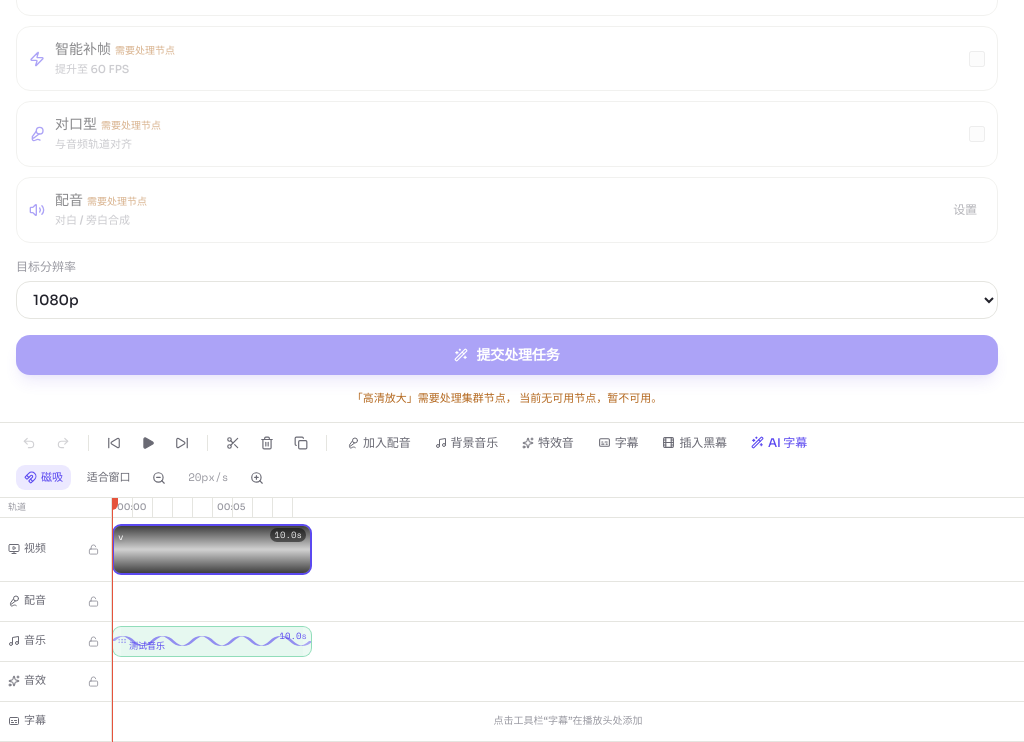
Test: pauses playback when positioning the playhead and leaves it stopped
(page scrolled)
Expected: the element with test id "enhance-audio-aud_track_m" is shown, [112, 626, 312, 657]
Click the button titled "播放".
click(148, 443)  # box [135, 430, 161, 456]
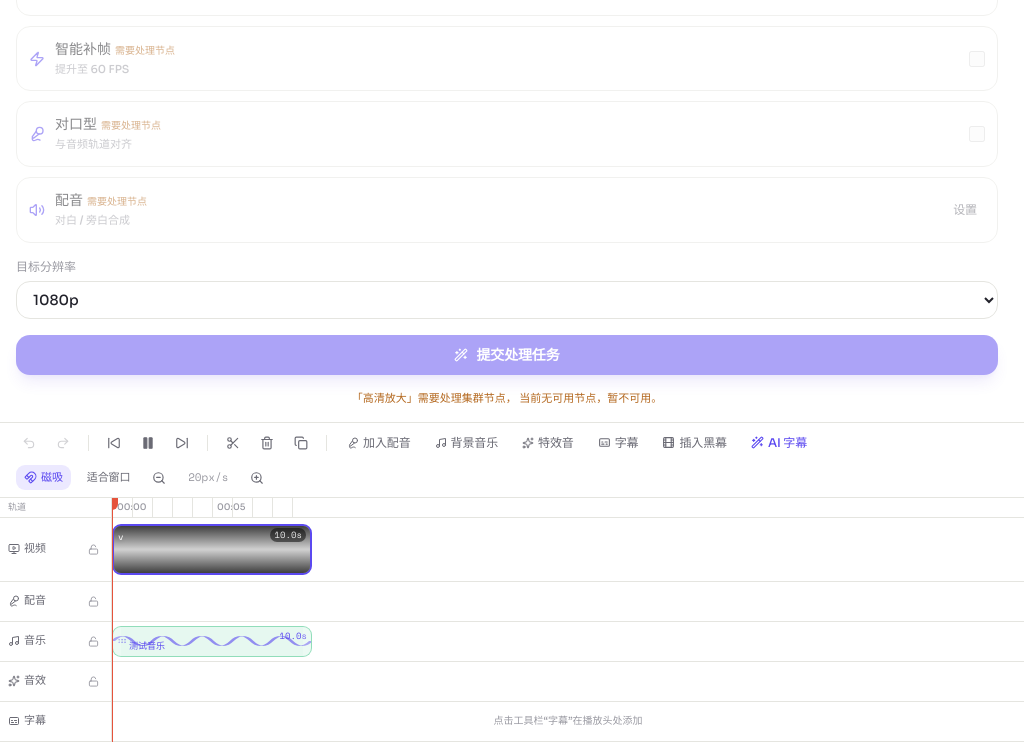
Now the button titled "暂停" is shown, box [135, 430, 161, 456]
Press the mouse on the element with test id "enhance-track-subtitles" at (568, 722), box [112, 702, 1023, 741]
Wait 1000 ms
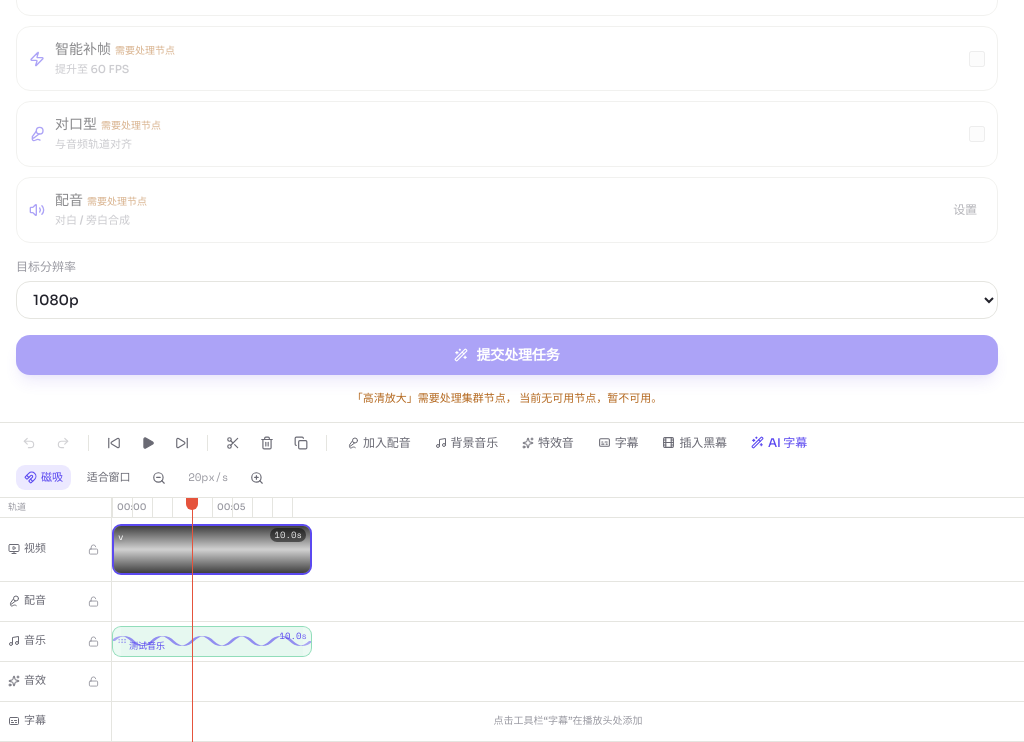
Now the button titled "播放" is shown, box [135, 430, 161, 456]
